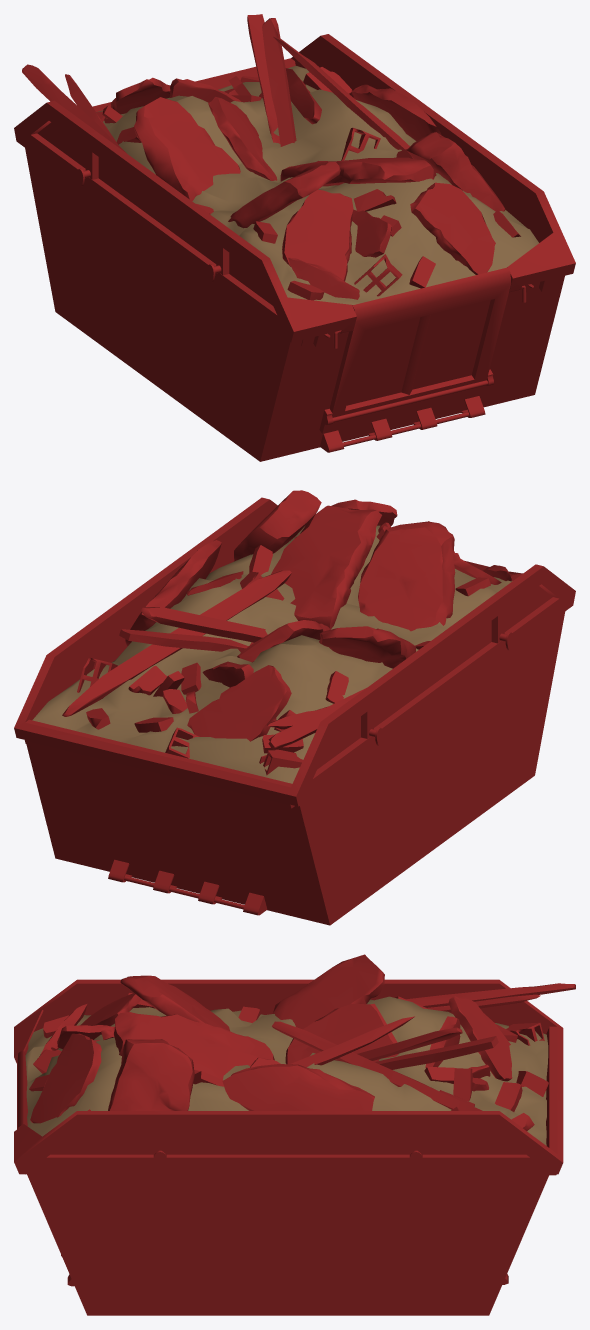
File: SM_Dumpster.FBX
The picture shows the model from 3 angles, top to bottom: view 1: azimuth 30°, elevation 25°; view 2: azimuth 150°, elevation 25°; view 3: azimuth 270°, elevation 25°; orthographic projection.
Parts seen in each view (by area): view 1: Dumpster; view 2: Dumpster; view 3: Dumpster.
Boxes of the visible parts, x1,y1,x2,y2 form: Dumpster: (14,14,575,461); Dumpster: (14,490,575,925); Dumpster: (14,954,575,1315).
Bounding box in the file's own units: 228 × 188 × 377.
